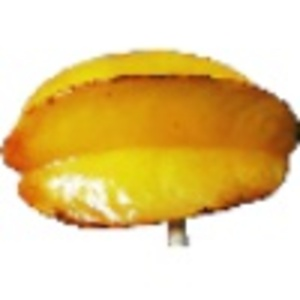carambola: (1, 47, 300, 249)
